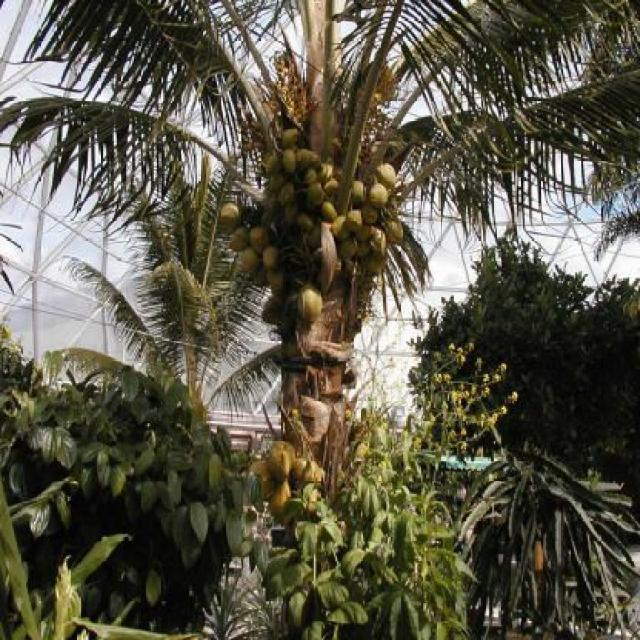Coconut: (220, 130, 403, 302), (266, 475, 297, 531), (298, 282, 328, 330), (268, 440, 296, 482), (246, 459, 272, 501), (290, 461, 322, 492)
